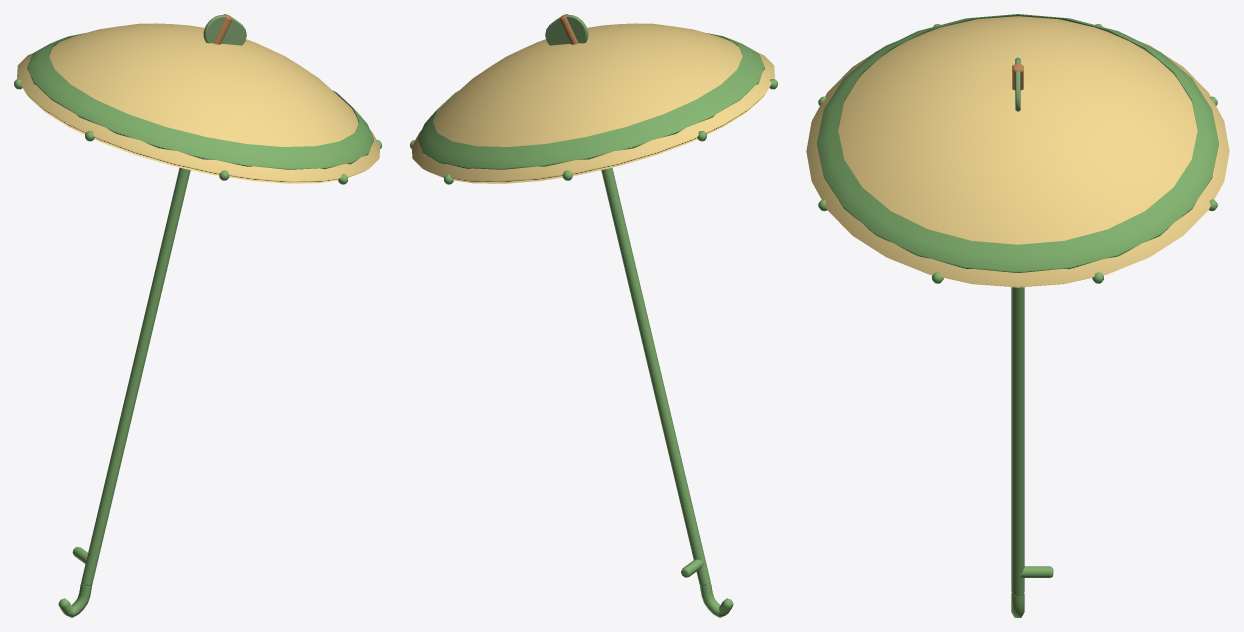
Rendered from pear_umbrella.glb.
3 views of the same model, side by side, from view 1: azimuth 30°, elevation 25°; view 2: azimuth 150°, elevation 25°; view 3: azimuth 270°, elevation 25° (orthographic). The views are drawn at different scales.
Parts seen in each view (by area): view 1: pear_umbrella_ArmR; view 2: pear_umbrella_ArmR; view 3: pear_umbrella_ArmR.
Part boxes in pixels (x1,y1,x2,y2): pear_umbrella_ArmR: [14, 14, 381, 617]; pear_umbrella_ArmR: [410, 14, 777, 617]; pear_umbrella_ArmR: [806, 14, 1229, 617].
Size of the model in its own units: 0.8703 by 1.5 by 0.9.
